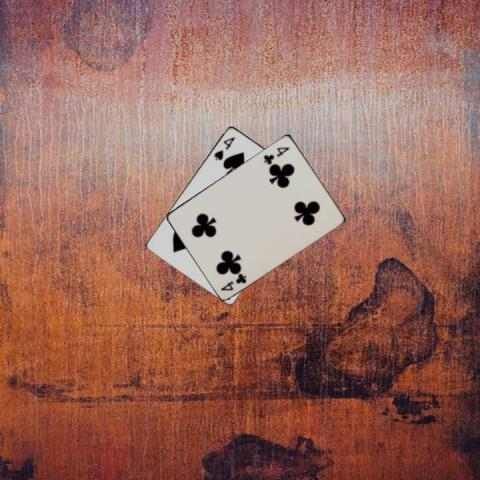4c: (217, 270, 248, 292), (260, 144, 290, 166)
4s: (211, 133, 237, 162)
